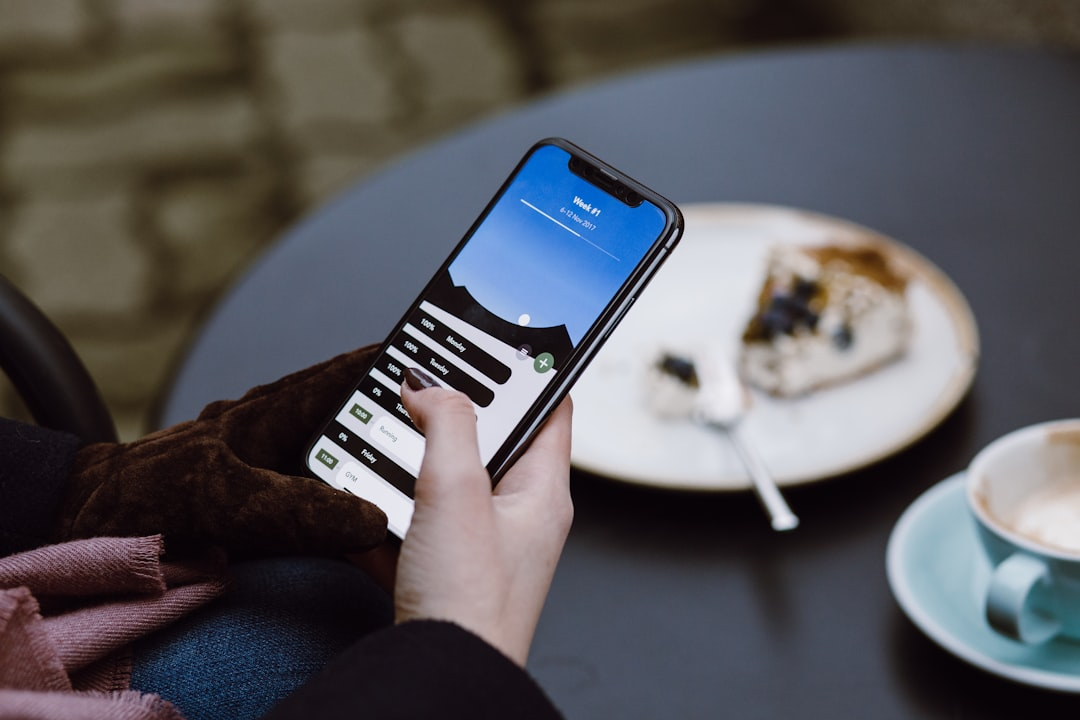phone: (305, 136, 685, 552)
